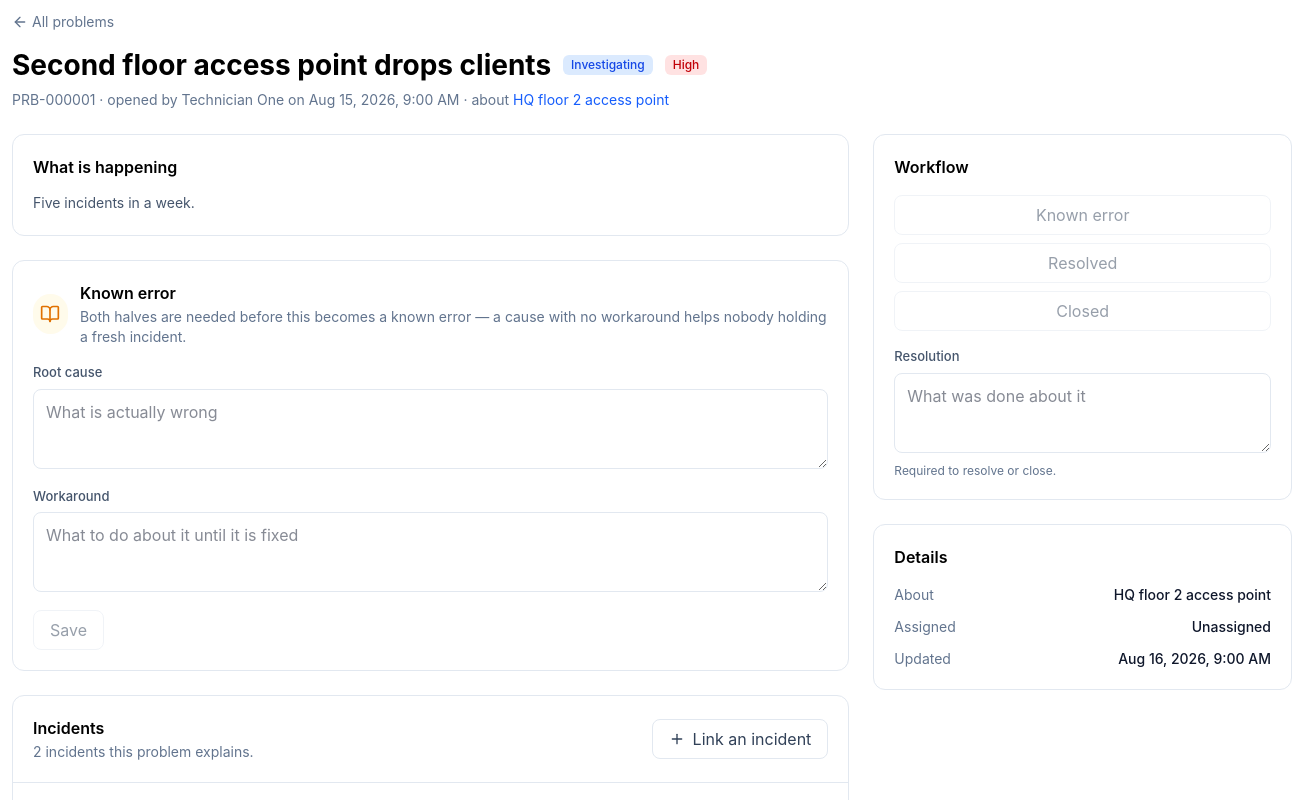
Test: a transition the server refuses shows its reason rather than failing silently
Expected: the heading "Second floor access point drops clients" is shown, [12, 44, 551, 86]
In the text box labelled "Resolution": (1083, 412) [894, 372, 1271, 452], type "Replaced it."
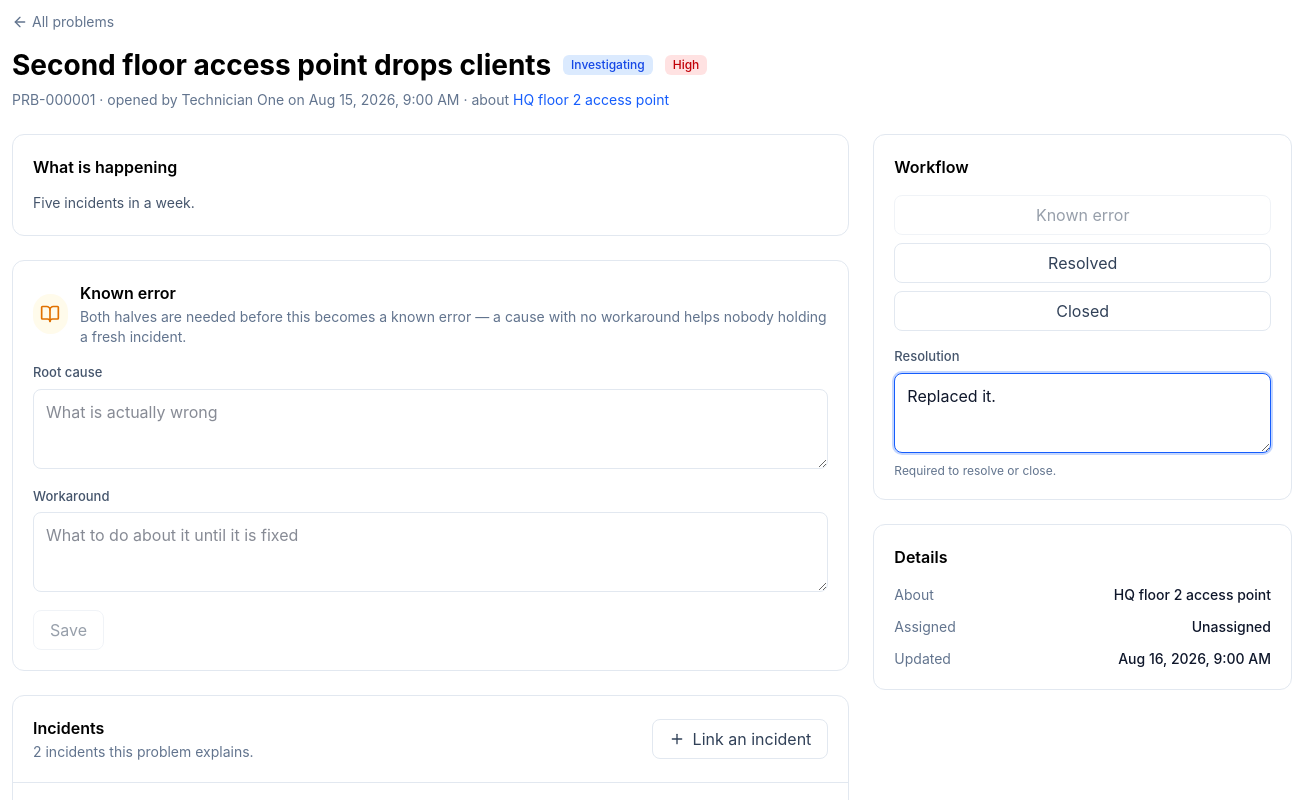
Click the button "Closed": (1083, 311) [894, 291, 1271, 331]
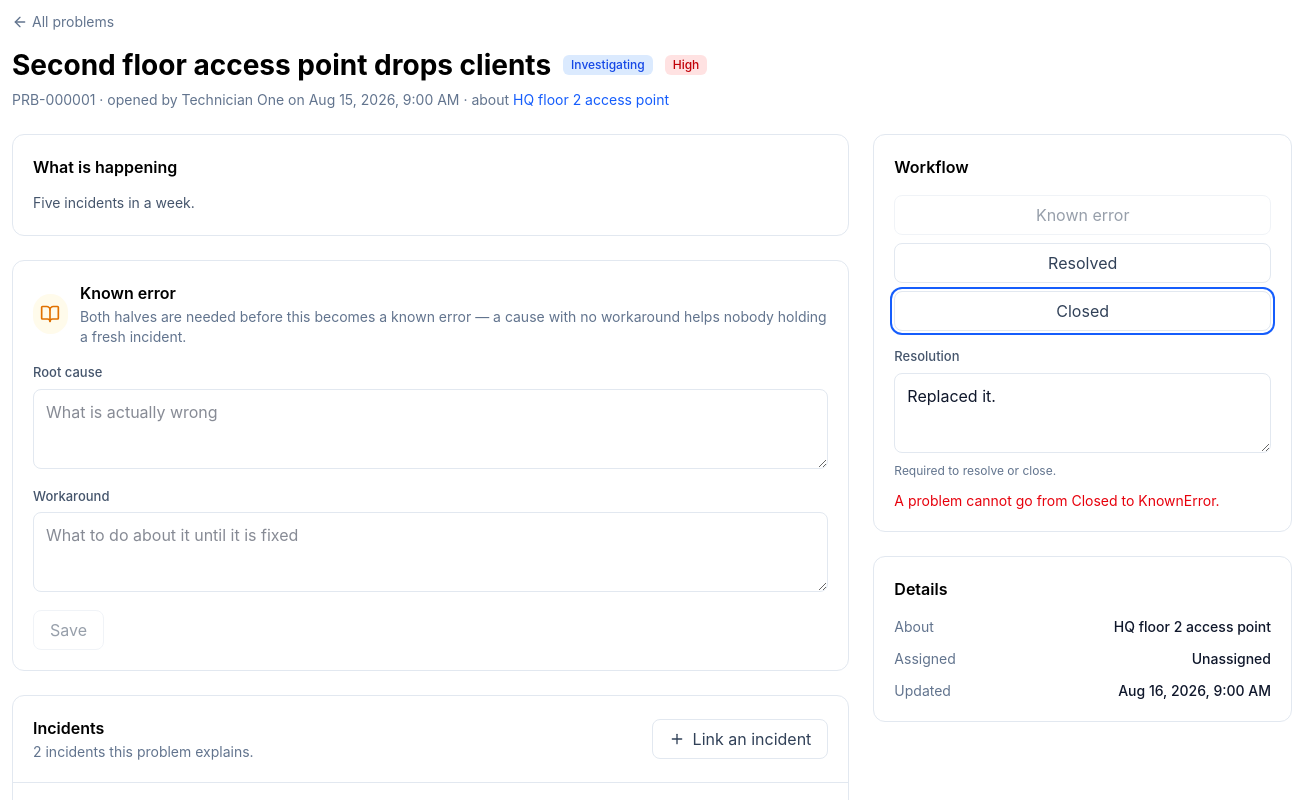
Result: the message reads "A problem cannot go from Closed to KnownError." at [894, 492, 1220, 508]
